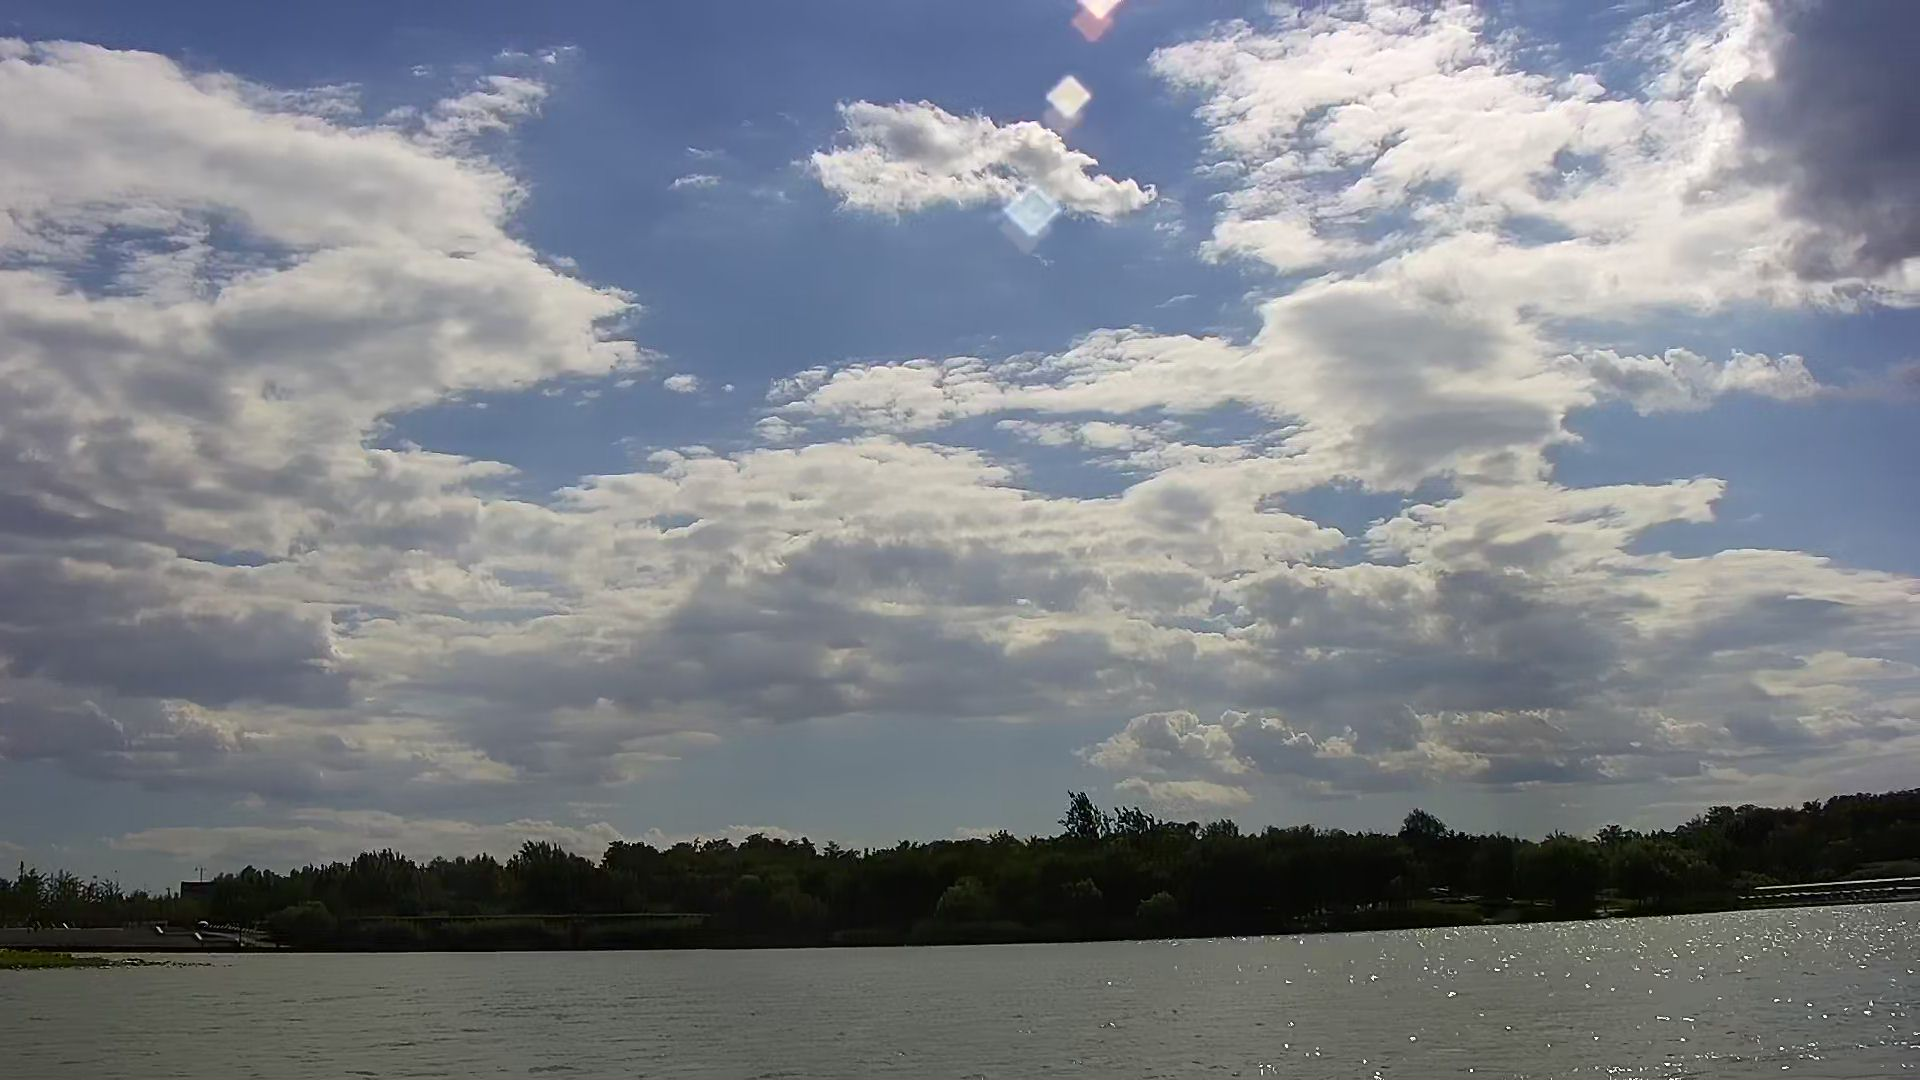harbor: (1704, 862, 1920, 918), (4, 918, 274, 952)
